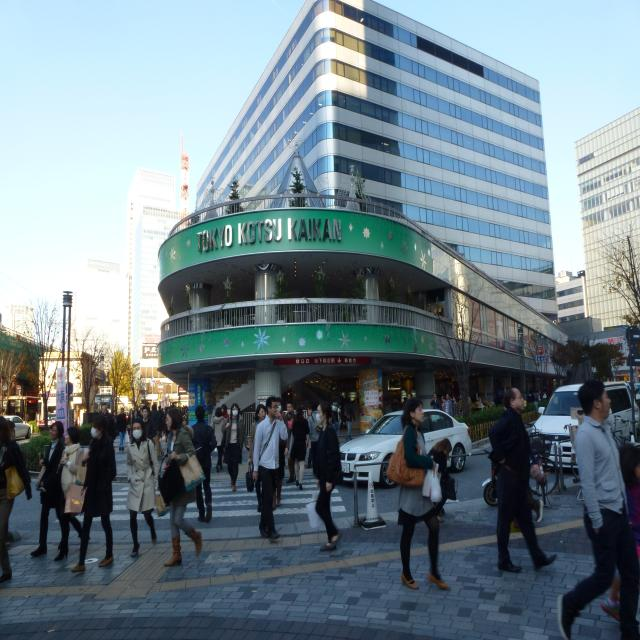body: (0, 394, 544, 549), (556, 375, 640, 640), (485, 385, 560, 575), (384, 394, 453, 592), (156, 405, 207, 570), (68, 412, 118, 575), (599, 443, 640, 624), (28, 419, 70, 558), (309, 399, 346, 553), (52, 425, 92, 563), (0, 417, 32, 582), (252, 396, 288, 542), (125, 417, 162, 556), (190, 404, 218, 524), (221, 402, 250, 493), (427, 438, 457, 523), (245, 403, 267, 513), (272, 397, 290, 508), (290, 404, 310, 492), (307, 402, 322, 479), (285, 402, 297, 484), (211, 407, 226, 472), (342, 397, 356, 444), (101, 404, 117, 444), (138, 406, 155, 440), (116, 407, 128, 451), (221, 403, 229, 464), (331, 400, 341, 442), (442, 393, 453, 417), (430, 392, 441, 410)
